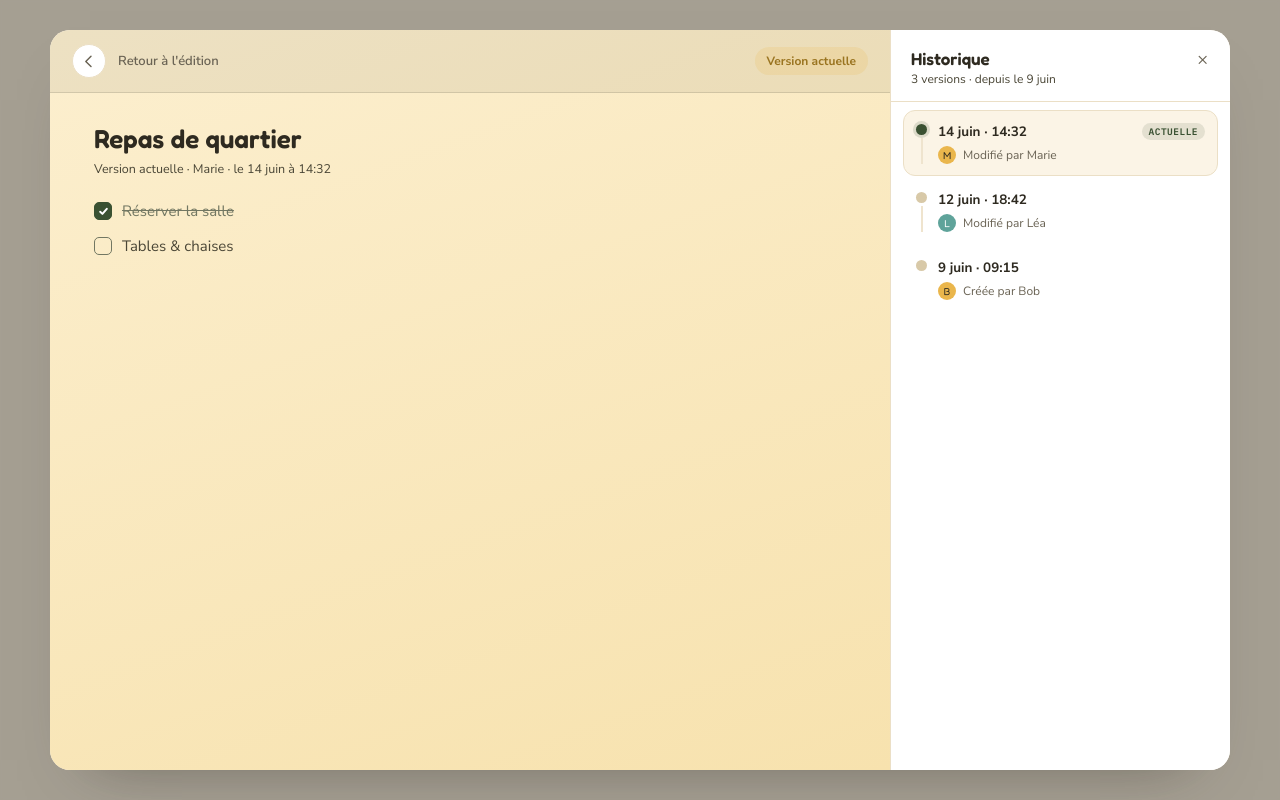
Test: HistoryPage (E6) › previews a selected version read-only, re-rendered as-is
Click the text "Modifié par Léa". click: (992, 223)
box: [938,214,1046,232]
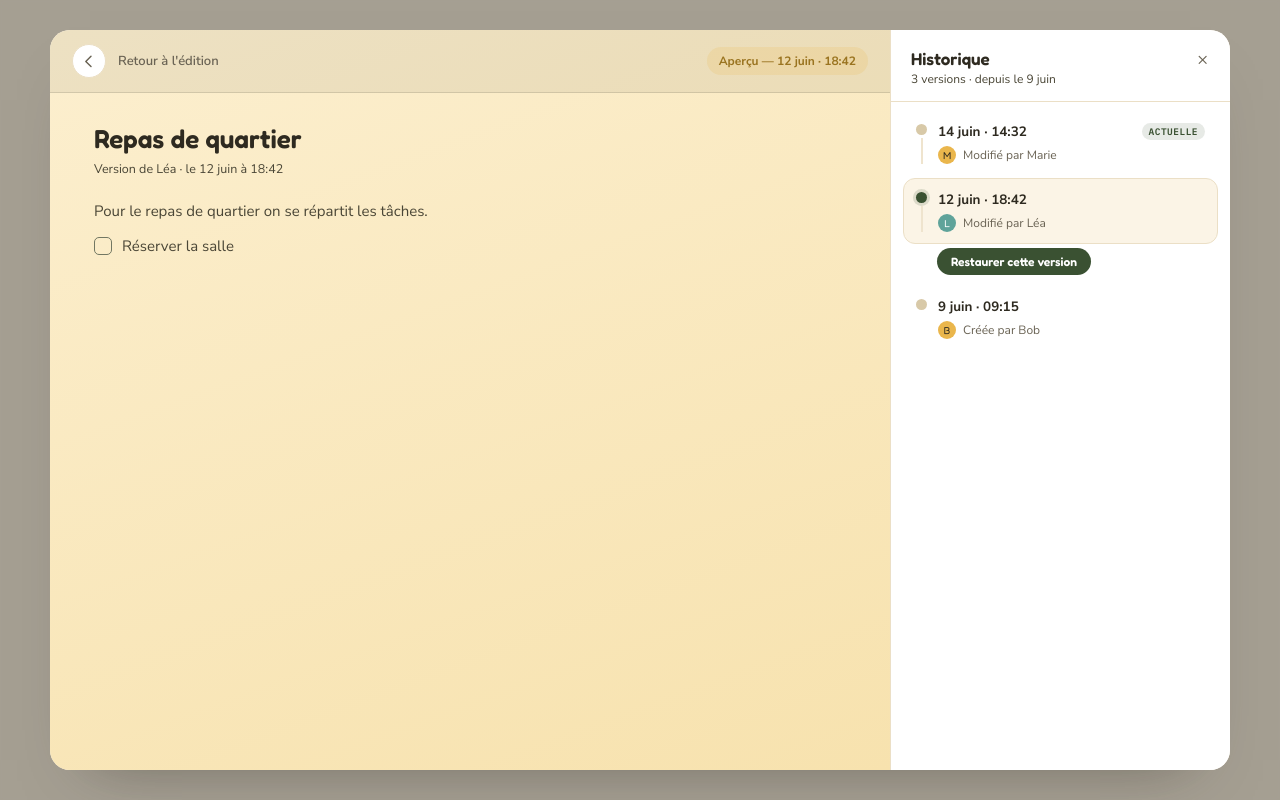
Check: the text "Pour le repas de quartier on se répartit les tâches." is shown, box [94,201,428,221]
